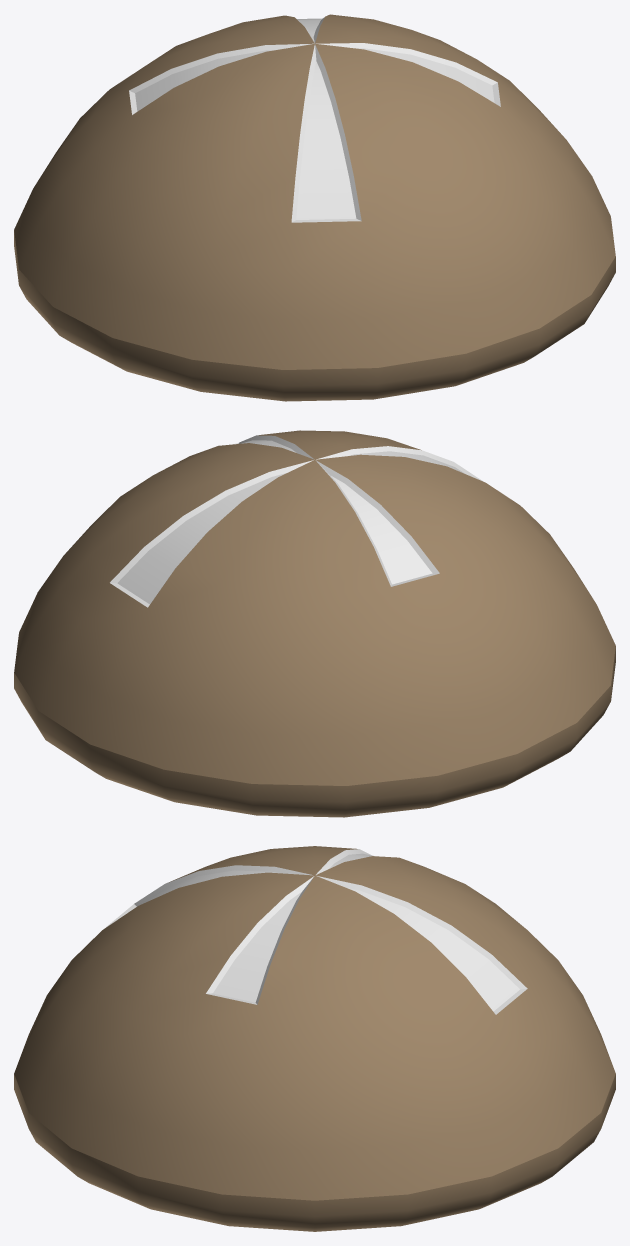
Rendered from BreadLoaf.fbx.
3 views of the same model, one above another, from view 1: azimuth 30°, elevation 25°; view 2: azimuth 150°, elevation 25°; view 3: azimuth 270°, elevation 25° (orthographic).
Visible parts, largest first — view 1: BreadLoaf; view 2: BreadLoaf; view 3: BreadLoaf.
Part boxes in pixels (box(x1,y1,x2,y2)): BreadLoaf: box(14, 14, 615, 401); BreadLoaf: box(14, 430, 615, 817); BreadLoaf: box(14, 846, 615, 1231).
Bounding box in the file's own units: 95.14 × 45.41 × 95.14.
